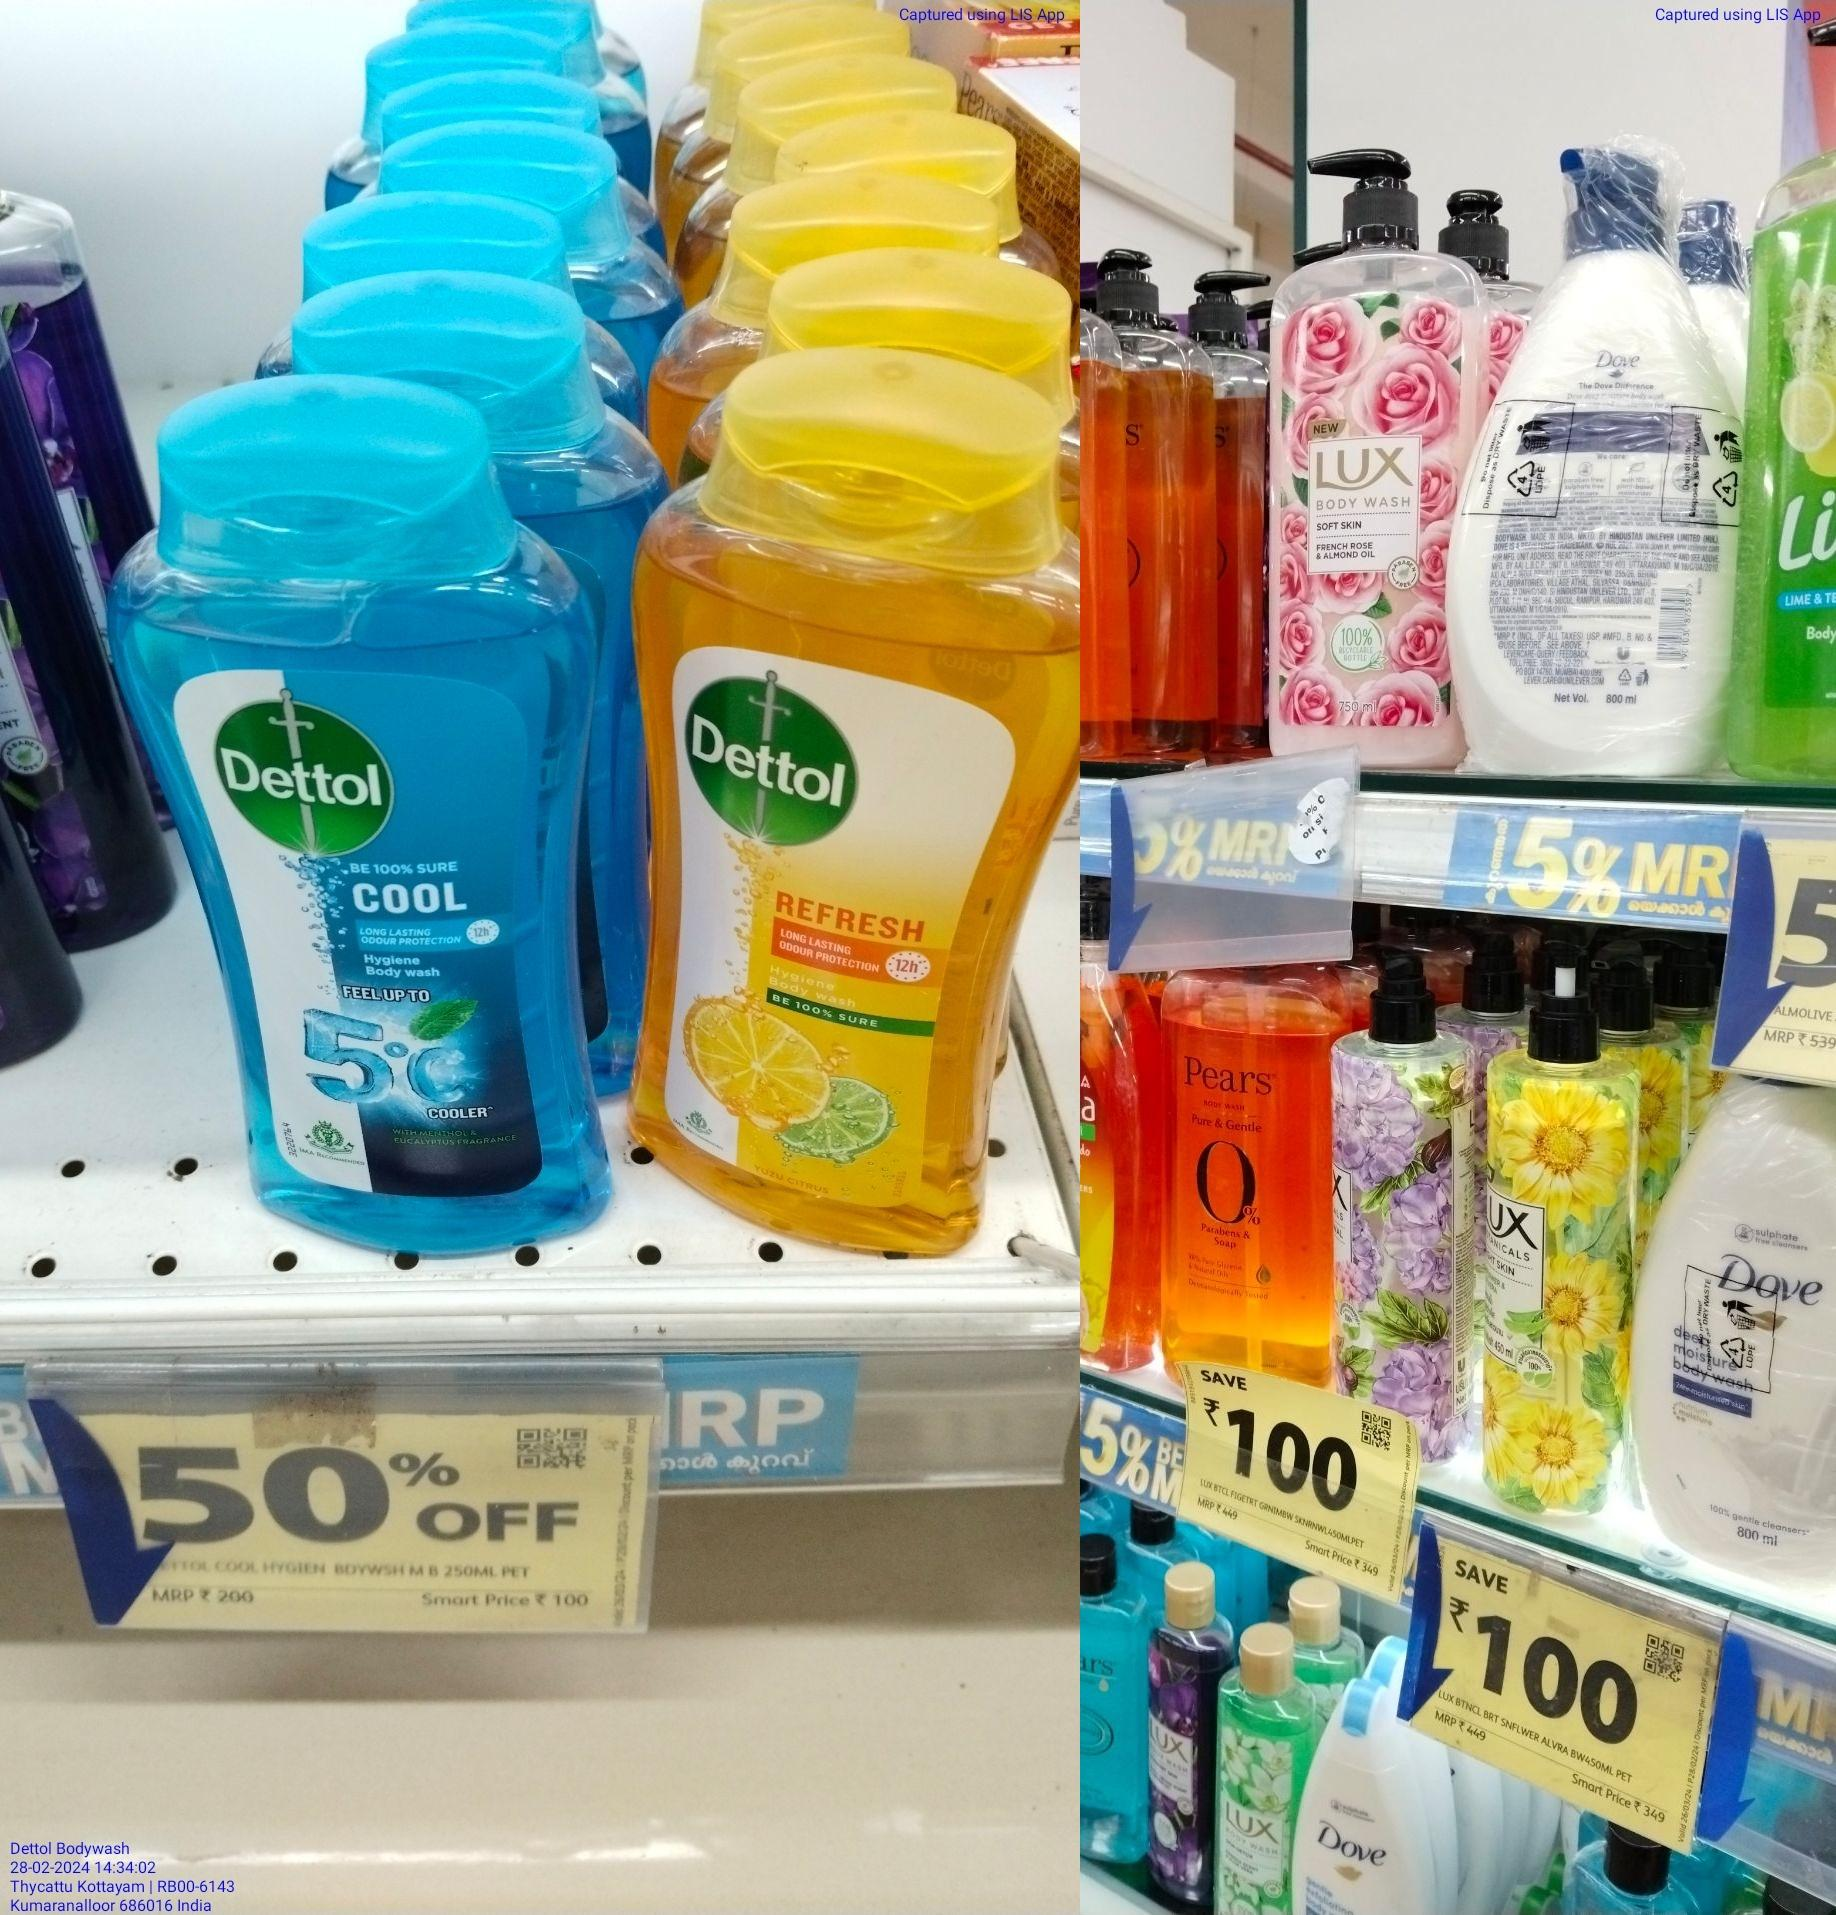Dettol_Bodywash_Cool: (144, 441, 569, 1269)
Dettol_Bodywash_Refresh: (655, 409, 1009, 1269)
Lux_Black_Orchid_Scent_and_Juniper_Oil_Body_Wash_245ML: (1147, 1575, 1210, 1910)
Lux_Body_Wash_Skin_Detox_Freesia_Scent_and_Alove_Vera_245ML: (1217, 1633, 1289, 1915)
